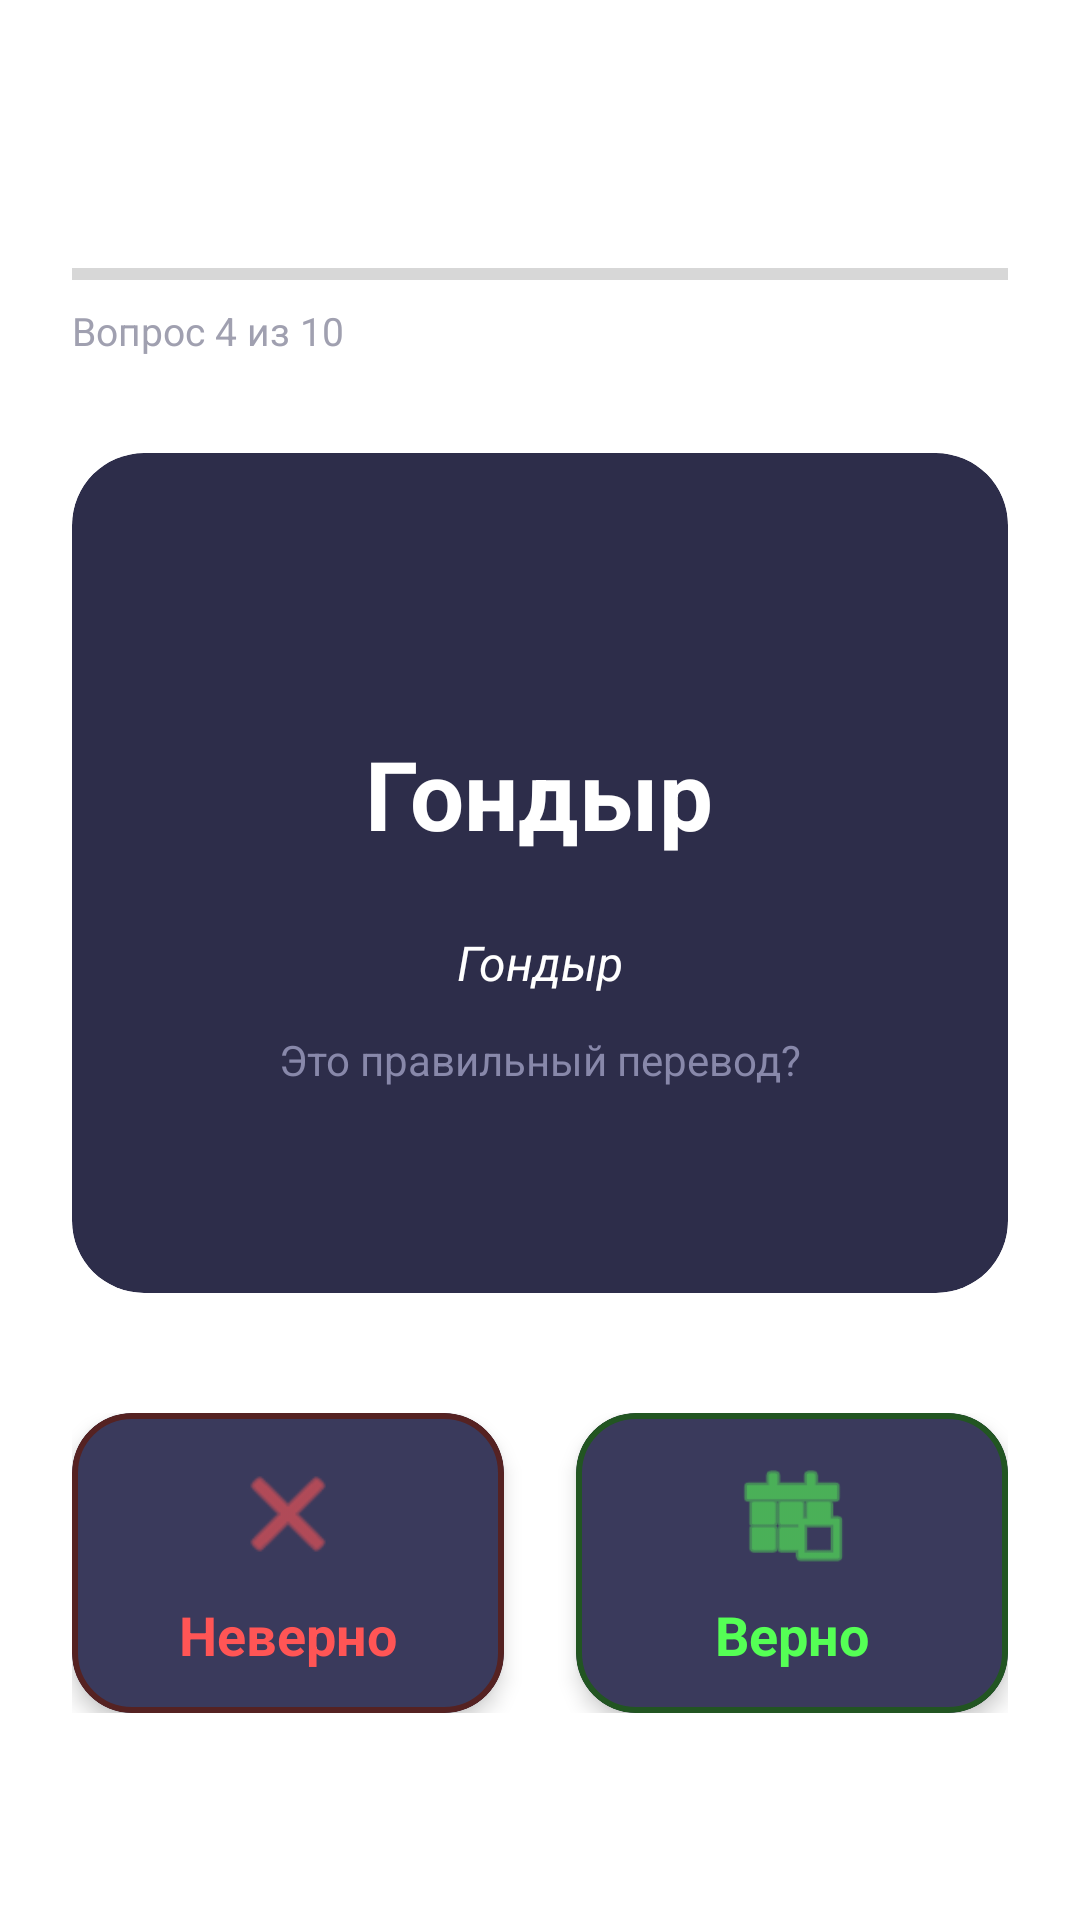

Icons on this 1080*1920 Android screen, each with the point to tap as (x=x, y=y):
close clear cancel: (x=288, y=1514)
today: (x=793, y=1516)
